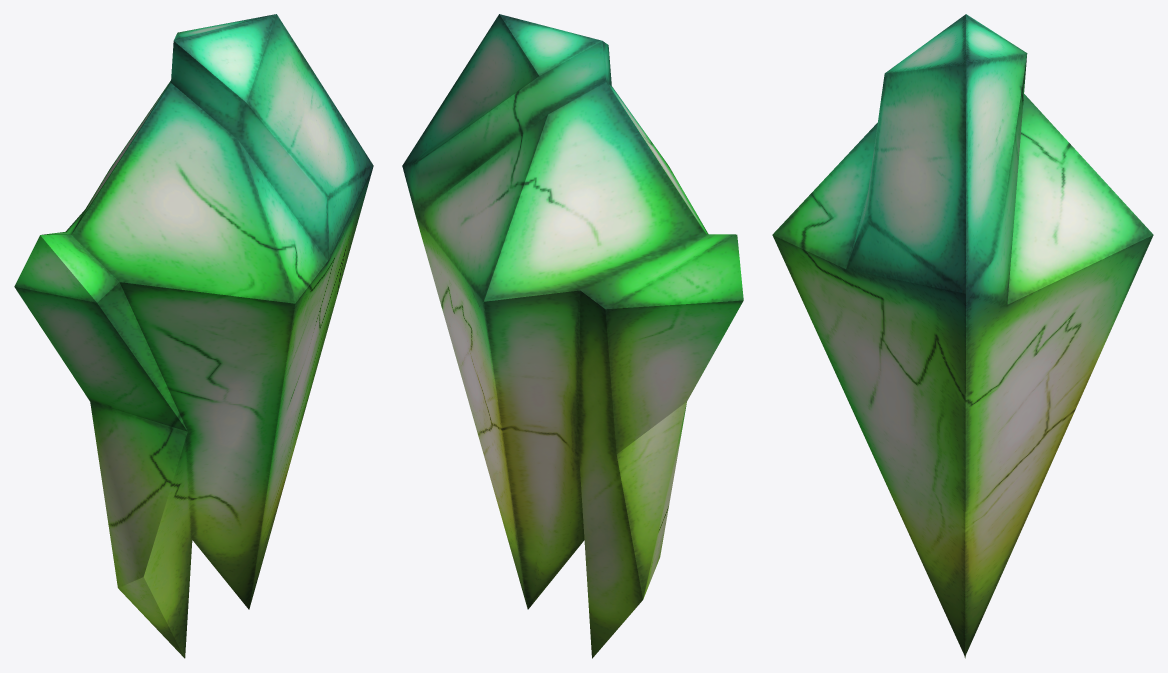
The model's file is crystal-green.glb.
The picture shows the model from 3 angles, left to right: view 1: azimuth 30°, elevation 25°; view 2: azimuth 150°, elevation 25°; view 3: azimuth 270°, elevation 25°; orthographic projection. The views are drawn at different scales.
Visible parts, largest first — view 1: crystal_3.001_Plane.012; view 2: crystal_3.001_Plane.012; view 3: crystal_3.001_Plane.012.
Boxes of the visible parts, x1,y1,x2,y2 form: crystal_3.001_Plane.012: [14, 14, 373, 658]; crystal_3.001_Plane.012: [402, 14, 743, 658]; crystal_3.001_Plane.012: [772, 14, 1153, 658].
Size of the model in its own units: 0.8195 by 1.39 by 0.7499.
1 material, 1 textured.
